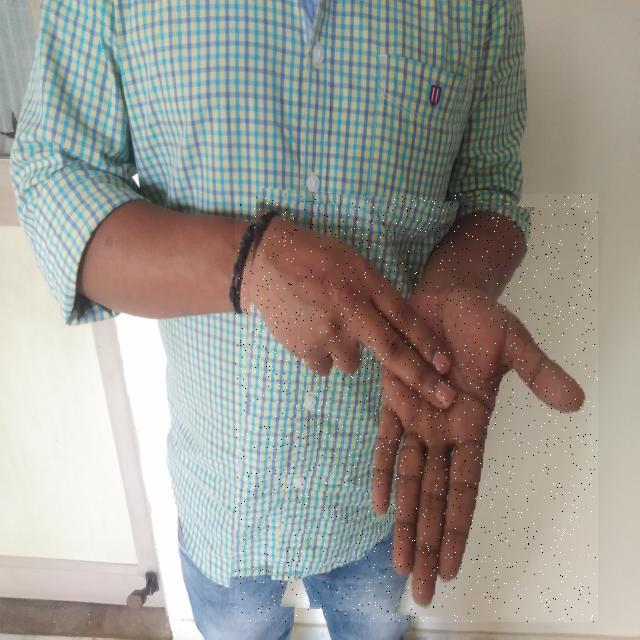N: (235, 194, 598, 622)
